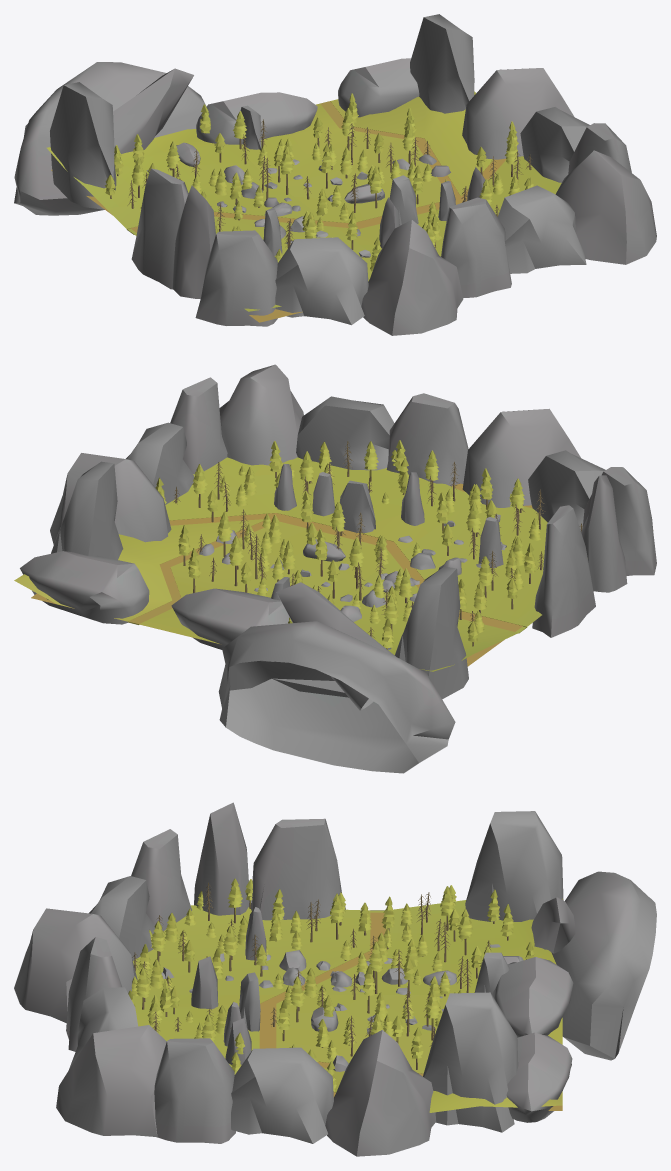
The model's file is low_poly_forest_1.glb.
The picture shows the model from 3 angles, top to bottom: view 1: azimuth 30°, elevation 25°; view 2: azimuth 150°, elevation 25°; view 3: azimuth 270°, elevation 25°; orthographic projection. The views are drawn at different scales.
Visible parts, largest first — view 1: low_poly_forest_1objcleanermaterialmergergles; view 2: low_poly_forest_1objcleanermaterialmergergles; view 3: low_poly_forest_1objcleanermaterialmergergles.
Part boxes in pixels (box(x1,y1,x2,y2)): low_poly_forest_1objcleanermaterialmergergles: box(14, 14, 656, 335); low_poly_forest_1objcleanermaterialmergergles: box(14, 364, 656, 773); low_poly_forest_1objcleanermaterialmergergles: box(14, 802, 656, 1156).
Bounding box in the file's own units: 40.16 × 13.59 × 43.61.
1 material, 1 textured.
